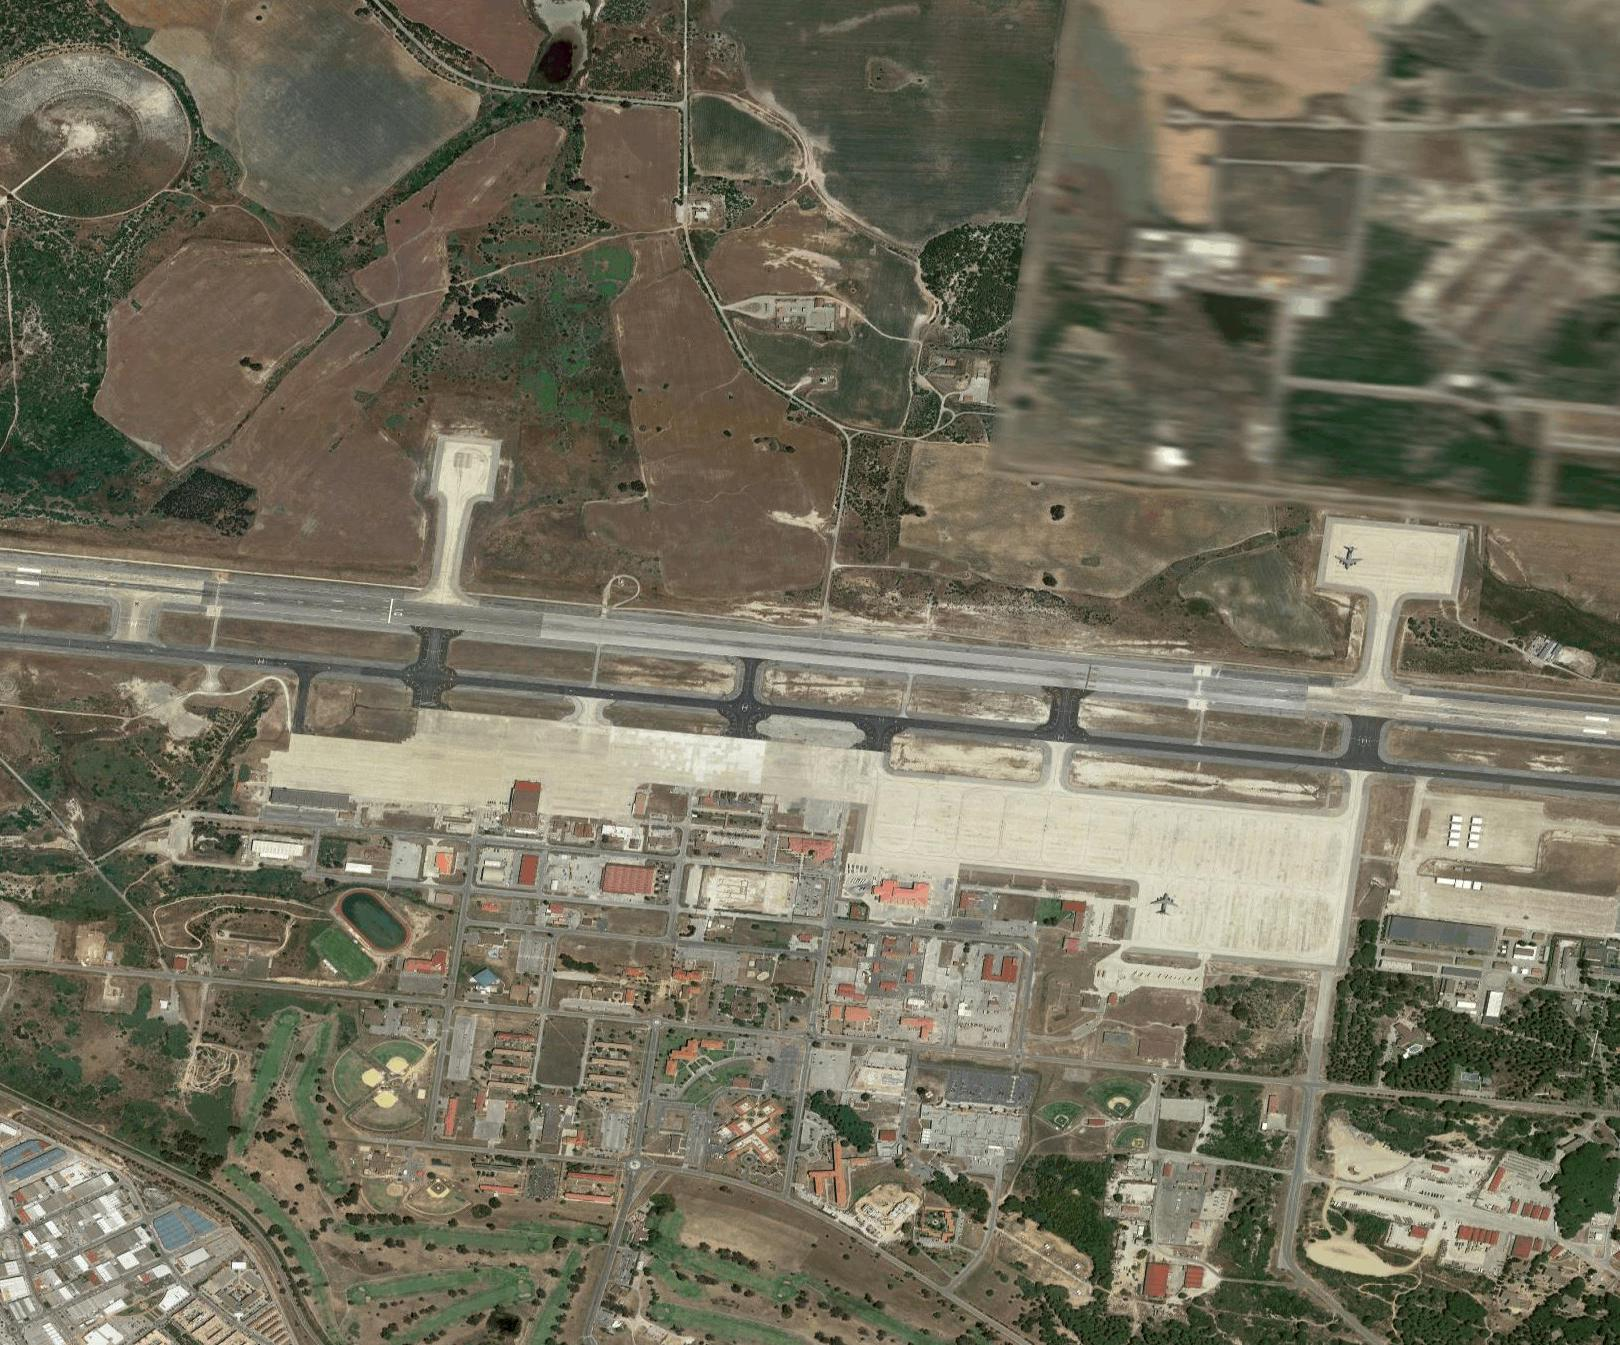airport: (1, 378, 1620, 952)
